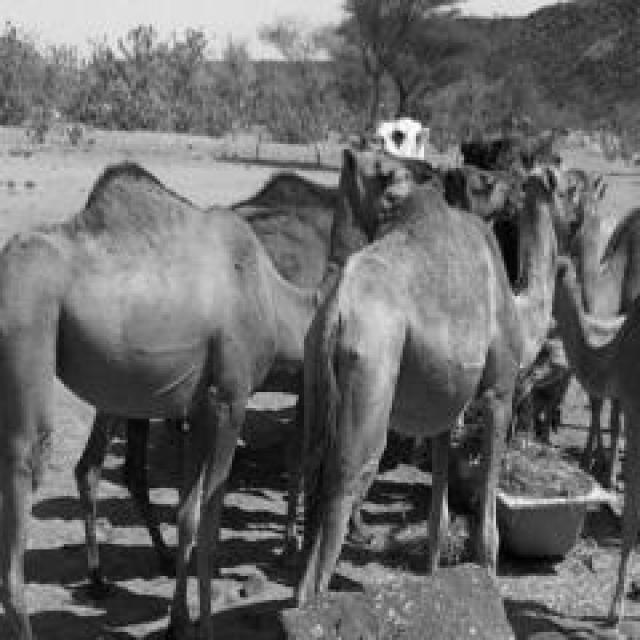Camel: (0, 145, 434, 638), (291, 139, 560, 608)
